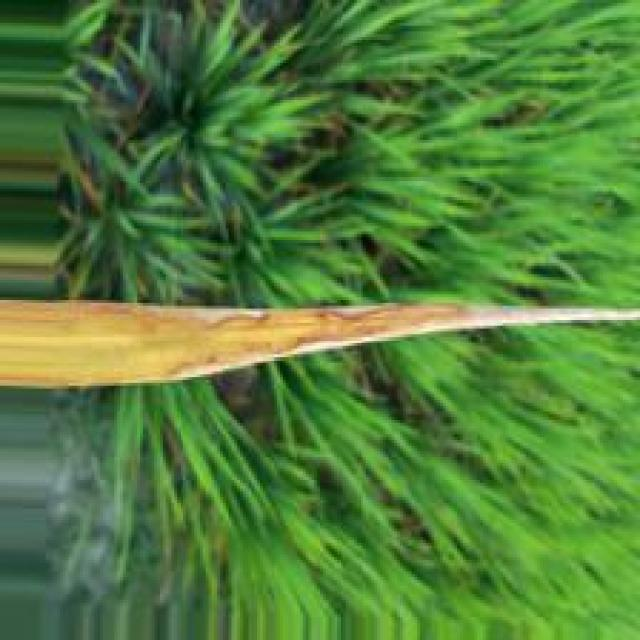Bacterial_Leaf_Blight: (0, 298, 640, 387)
